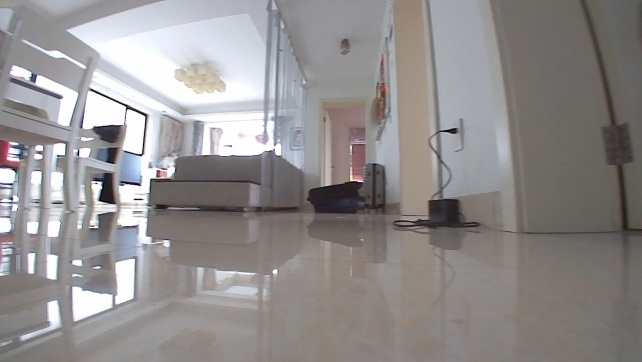dining_table: (0, 0, 130, 212)
sofa1: (146, 150, 306, 214)
wire: (426, 127, 458, 197), (392, 217, 425, 229), (460, 220, 482, 230)
